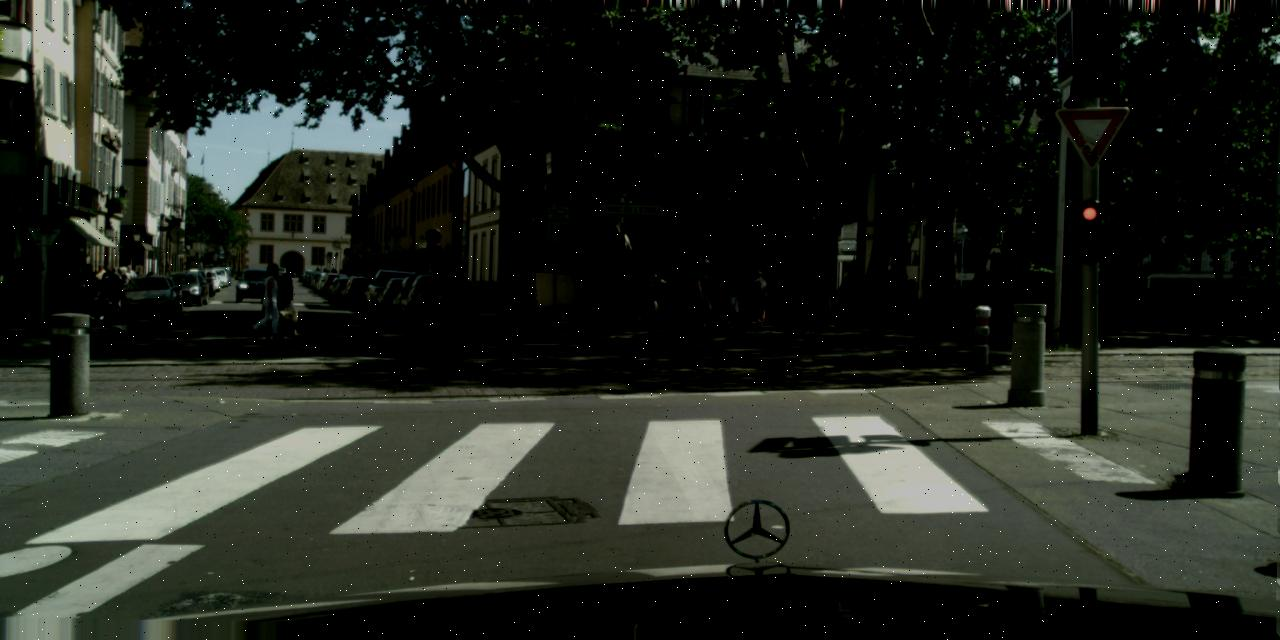ped: (253, 262, 284, 338), (271, 261, 301, 337), (718, 258, 748, 334), (687, 258, 717, 331), (639, 262, 668, 332), (4, 257, 28, 317), (748, 270, 770, 326), (78, 264, 99, 317), (27, 263, 48, 316), (38, 268, 58, 318), (109, 268, 127, 310), (103, 267, 120, 309), (97, 268, 112, 306), (92, 266, 107, 302), (122, 265, 136, 299)
